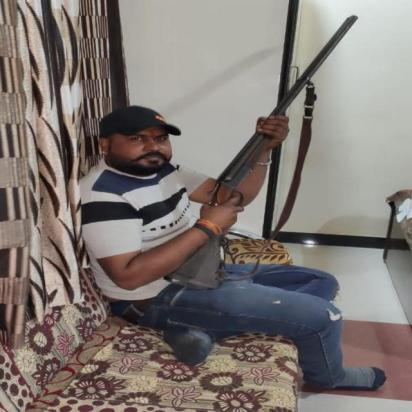Gun: (161, 14, 360, 293)
